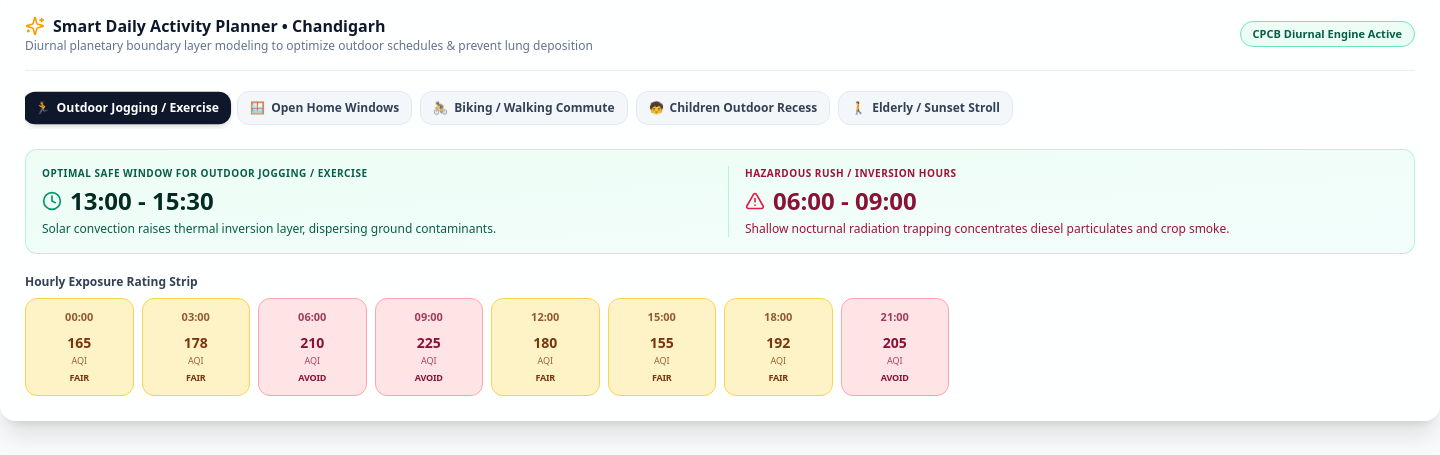
it: SmartDailyPlanner Component › switches activity and updates optimal time window
The width and height of the screenshot is (1440, 455).
Click the text "Open Home Windows" at (335, 108), box x1=271 y1=100 x2=399 y2=116
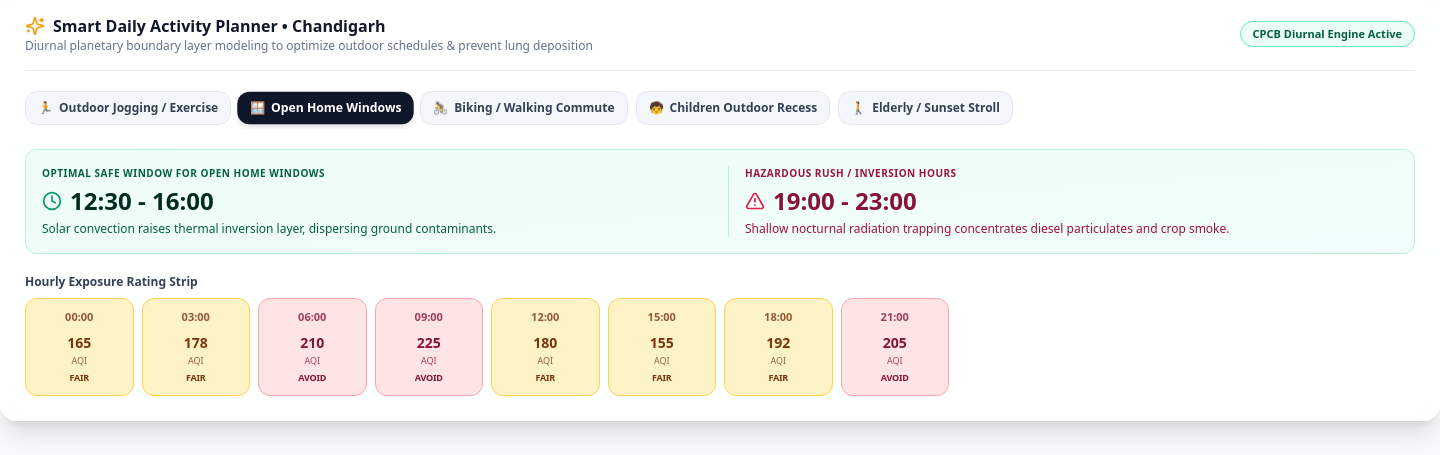
Expected: the text "Optimal Safe Window for Open Home Windows" is shown, x1=42 y1=166 x2=325 y2=180
Expected: the text "12:30 - 16:00" is shown, x1=70 y1=185 x2=214 y2=217
